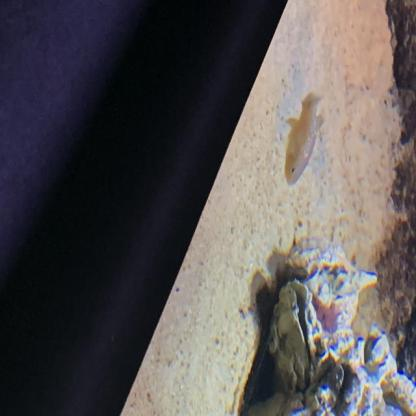fish: (281, 91, 328, 187)
